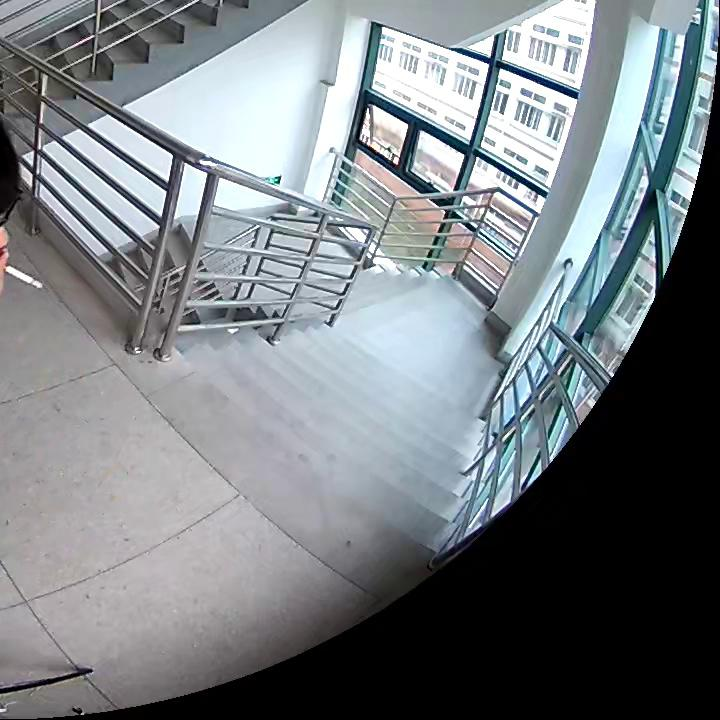mouthwithoutsmoke: (1, 120, 44, 295)
